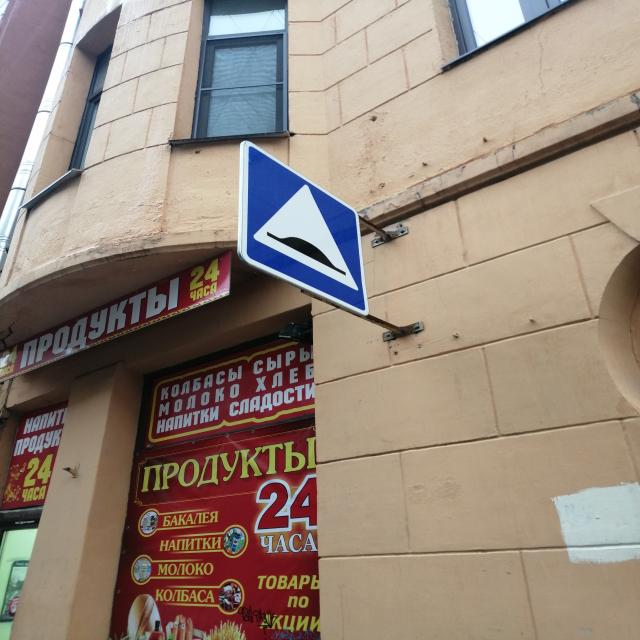road sign: (240, 141, 368, 317)
